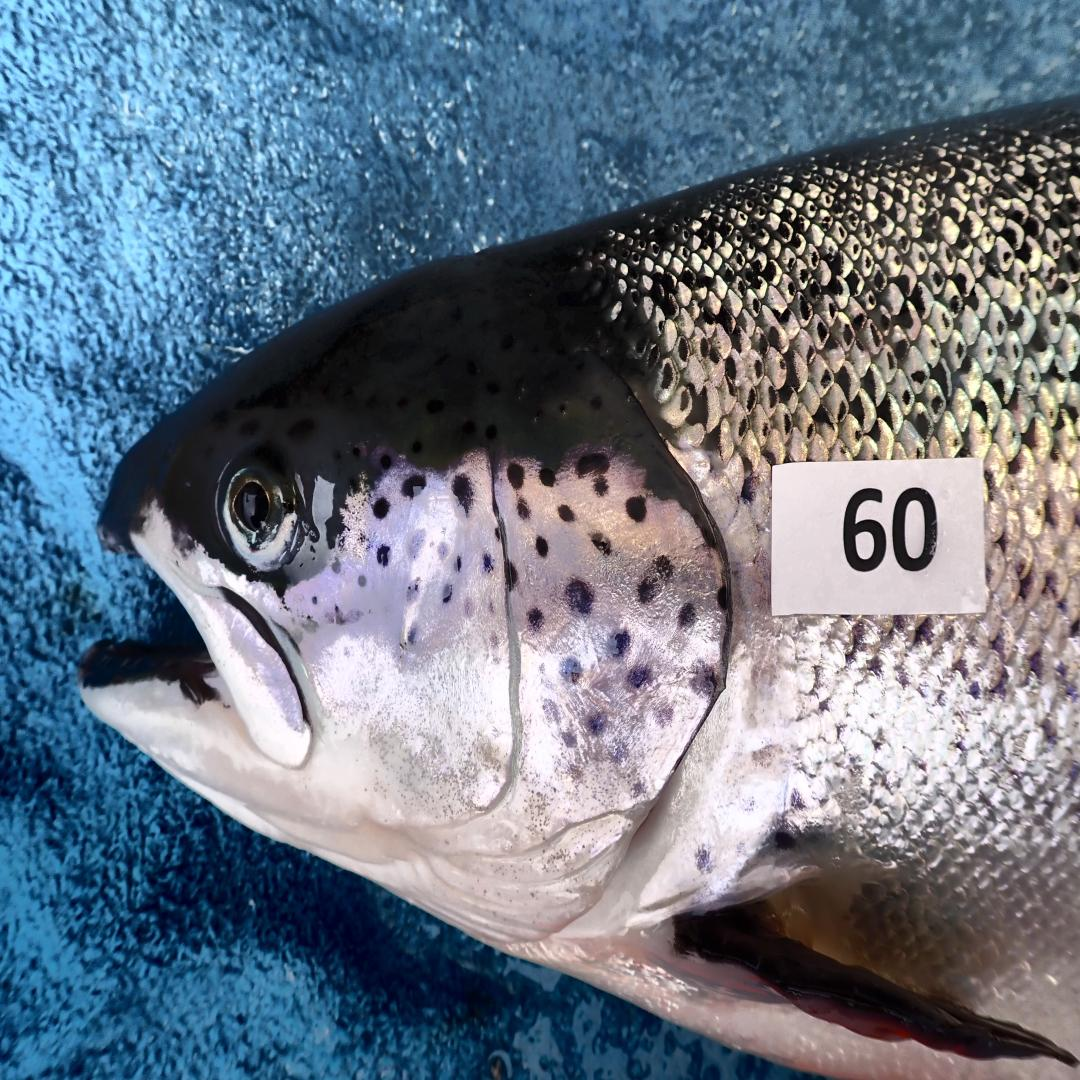spot: (565, 577, 594, 616), (692, 664, 718, 701), (452, 474, 473, 514), (576, 452, 609, 477), (610, 629, 631, 658), (401, 474, 426, 498), (560, 656, 582, 683), (653, 555, 674, 580), (626, 496, 646, 522), (629, 665, 651, 688), (591, 531, 612, 555), (678, 602, 696, 627), (507, 463, 524, 489), (638, 577, 655, 602), (527, 607, 544, 630), (588, 712, 605, 735), (372, 498, 390, 519), (410, 531, 424, 558), (539, 467, 556, 487), (507, 560, 518, 589), (376, 544, 390, 566), (558, 504, 575, 522), (594, 476, 609, 496), (717, 585, 729, 609), (535, 536, 548, 557), (517, 497, 529, 519), (407, 580, 418, 600), (482, 552, 493, 572), (442, 584, 452, 603), (407, 626, 417, 643), (438, 542, 447, 557), (332, 559, 340, 573), (358, 575, 367, 587), (456, 556, 462, 572), (495, 527, 501, 542), (312, 596, 318, 604)
